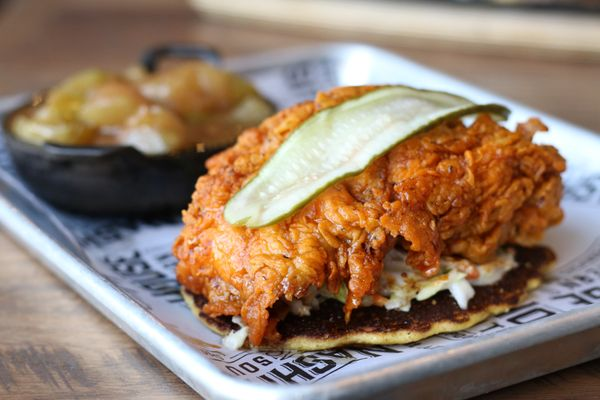soup: (169, 84, 566, 352)
sushi: (2, 51, 279, 217)
